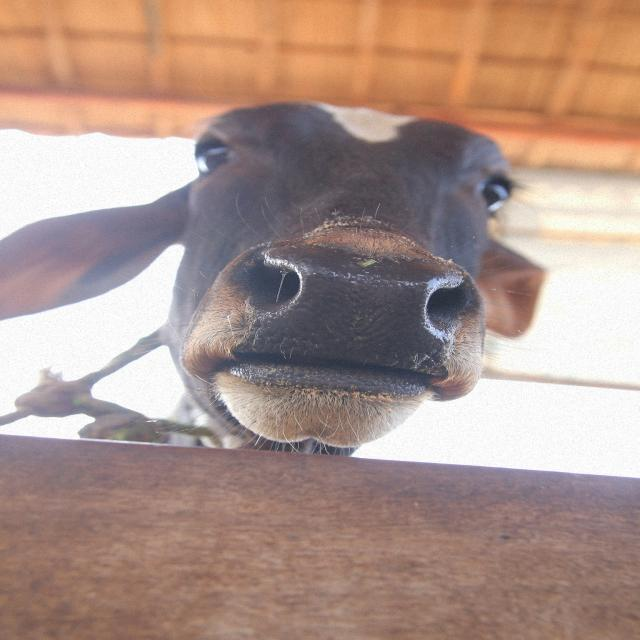muzzles: (225, 244, 487, 401)
